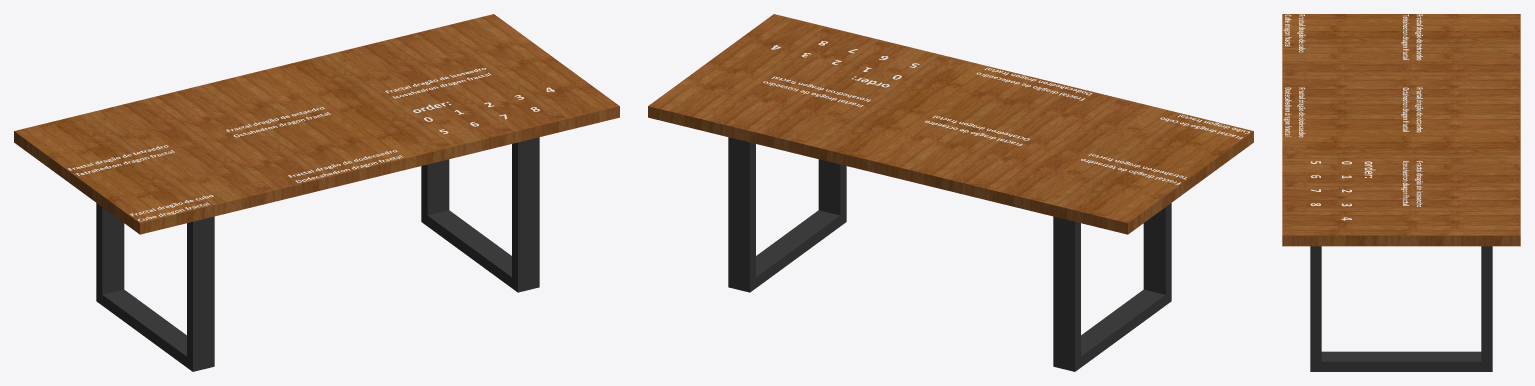
The model's file is fractal_platao5.glb.
3 renders of one model, left to right at view 1: azimuth 30°, elevation 25°; view 2: azimuth 150°, elevation 25°; view 3: azimuth 270°, elevation 25°, orthographic. The views are drawn at different scales.
Visible parts, largest first — view 1: object 1, Composant#1 (×2), Fractal dragão d#3; view 2: object 1, Composant#1 (×2), Fractal dragão d#3; view 3: object 1, Composant#1, Fractal dragão d#3, Fractal dragão d, Fractal dragão d#2, Fractal dragão d#4, Fractal dragão d#1, order: 0 1#1.
Boxes of the visible parts, box(x1,y1,x2,y2) form: object 1: box(14, 14, 619, 234); Composant#1 (×2): box(96, 137, 539, 371); Fractal dragão d#3: box(288, 150, 402, 182); object 1: box(648, 14, 1253, 234); Composant#1 (×2): box(728, 137, 1171, 371); Fractal dragão d#3: box(976, 67, 1091, 100); object 1: box(1282, 14, 1520, 246); Composant#1: box(1310, 246, 1492, 371); Fractal dragão d#3: box(1283, 87, 1305, 137); Fractal dragão d: box(1401, 14, 1422, 60); Fractal dragão d#2: box(1401, 87, 1422, 132); Fractal dragão d#4: box(1401, 161, 1422, 206); Fractal dragão d#1: box(1283, 14, 1305, 52); order: 0 1#1: box(1341, 161, 1375, 220).
Bounding box in the file's own units: 2.2 × 0.7711 × 1.
4 materials, 1 textured.
